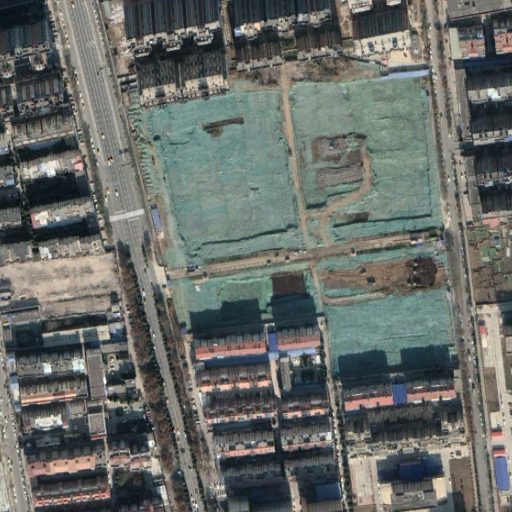cw: (123, 70, 458, 377)
